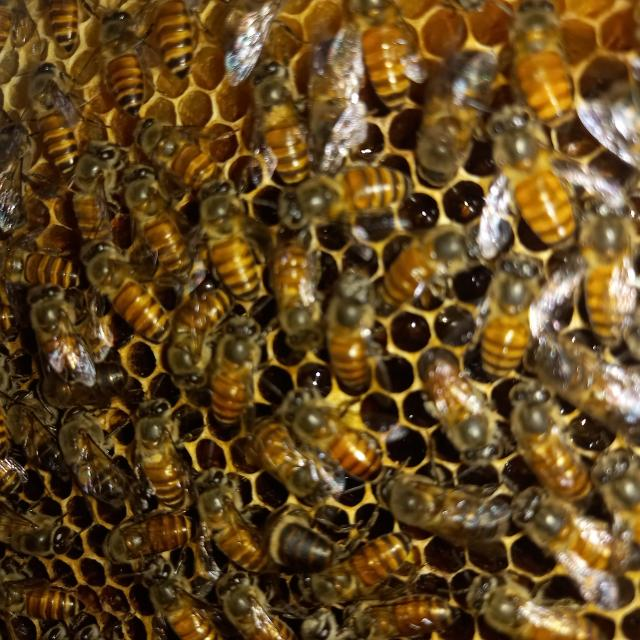honeybee: (374, 462, 516, 544), (458, 568, 607, 640), (528, 334, 640, 429), (90, 246, 176, 362), (515, 491, 627, 575), (501, 109, 566, 253), (512, 374, 590, 492), (413, 58, 491, 168), (270, 169, 417, 226), (24, 286, 99, 396), (429, 356, 504, 466), (136, 110, 228, 198), (62, 398, 129, 514), (581, 198, 640, 329), (505, 0, 572, 113), (305, 538, 425, 598), (298, 38, 362, 149), (379, 224, 463, 308), (250, 62, 308, 179), (263, 230, 320, 348), (289, 391, 374, 470), (480, 254, 534, 372), (248, 429, 330, 506), (166, 285, 223, 390), (90, 501, 188, 562), (353, 0, 411, 103), (5, 380, 64, 480), (198, 472, 260, 565), (134, 155, 183, 271), (215, 318, 269, 420), (322, 264, 374, 369), (215, 573, 295, 640), (135, 410, 190, 507), (98, 7, 146, 115), (0, 112, 40, 241), (65, 140, 116, 238), (203, 177, 250, 281), (350, 599, 464, 640), (597, 442, 640, 550), (32, 61, 77, 160), (0, 584, 92, 632), (0, 249, 90, 298), (140, 580, 212, 640), (157, 0, 197, 84), (0, 518, 78, 558), (48, 0, 84, 56)
